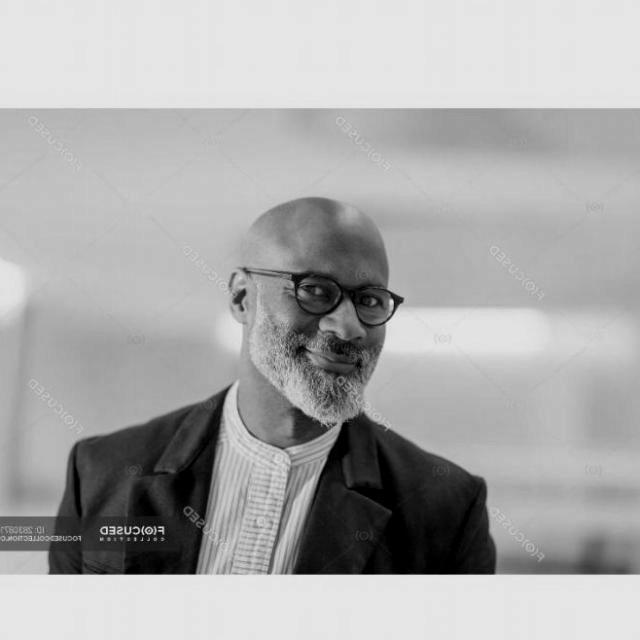real: (250, 220, 390, 422)
